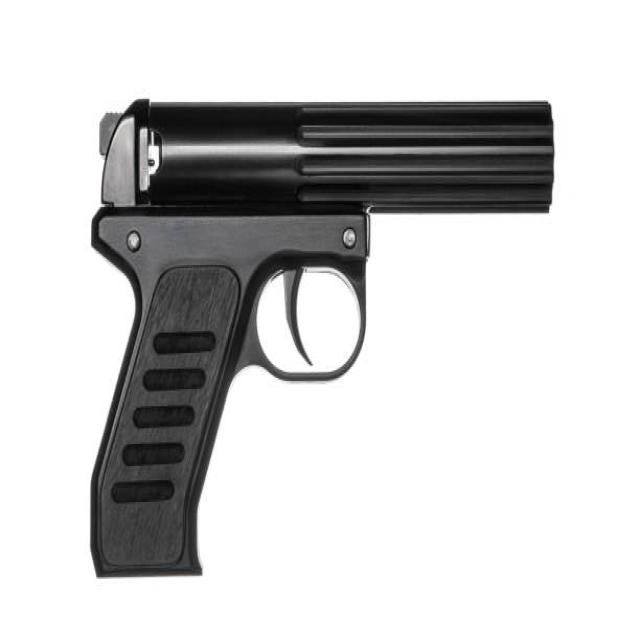pistol: (74, 96, 563, 588)
